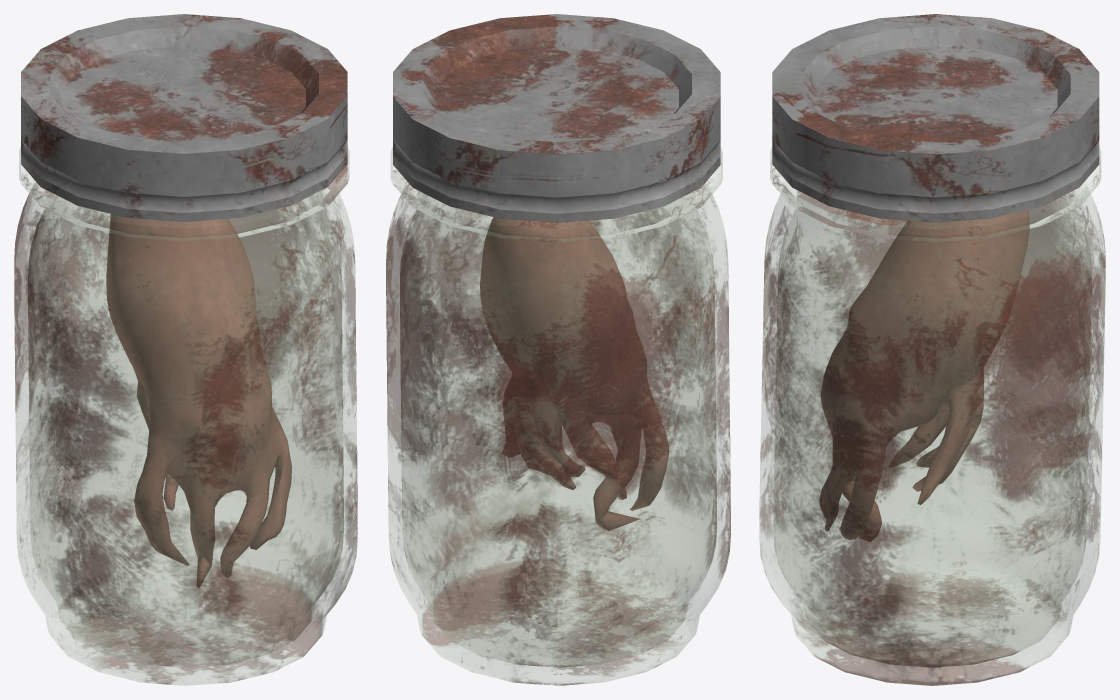
The model's file is specimen_octopus_jar.glb.
3 renders of one model, left to right at view 1: azimuth 30°, elevation 25°; view 2: azimuth 150°, elevation 25°; view 3: azimuth 270°, elevation 25°, orthographic.
Parts seen in each view (by area): view 1: Jar LP, deviant art-retopo 1; view 2: Jar LP, deviant art-retopo 1; view 3: Jar LP, deviant art-retopo 1.
Part boxes in pixels (x1,y1,x2,y2): Jar LP: (14, 14, 357, 685); deviant art-retopo 1: (106, 214, 291, 587); Jar LP: (386, 14, 730, 685); deviant art-retopo 1: (480, 217, 669, 530); Jar LP: (759, 14, 1105, 685); deviant art-retopo 1: (819, 209, 1029, 541).
Bounding box in the file's own units: 0.1725 × 0.3 × 0.1722.
2 materials, 2 textured.
